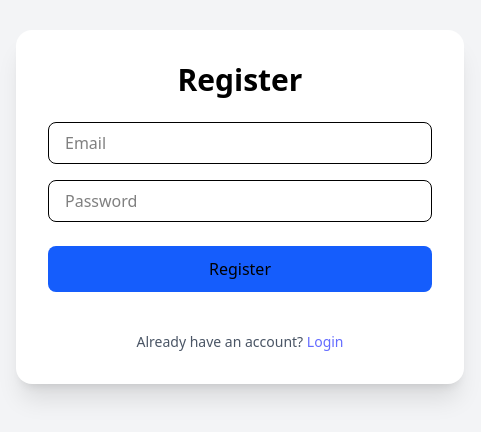
AuthForm Component › renders register form and password strength indicator
The width and height of the screenshot is (481, 432).
Expected: the heading "Register" is shown, [178,59,302,100]
Expected: the button "Register" is shown, [48,246,432,292]
In the password field with placeholder "Password": (240, 201) [48,180,432,222], type "pass"
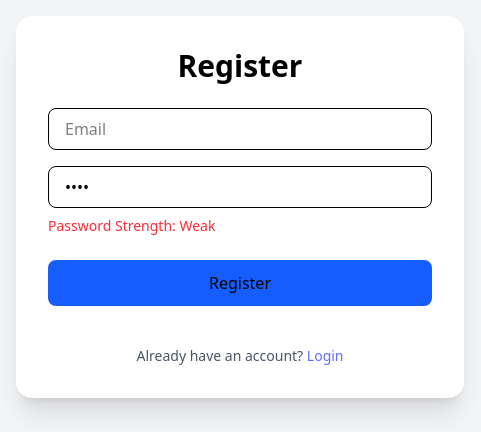
Expected: the text "Password Strength: Weak" is shown, [48,216,215,235]
